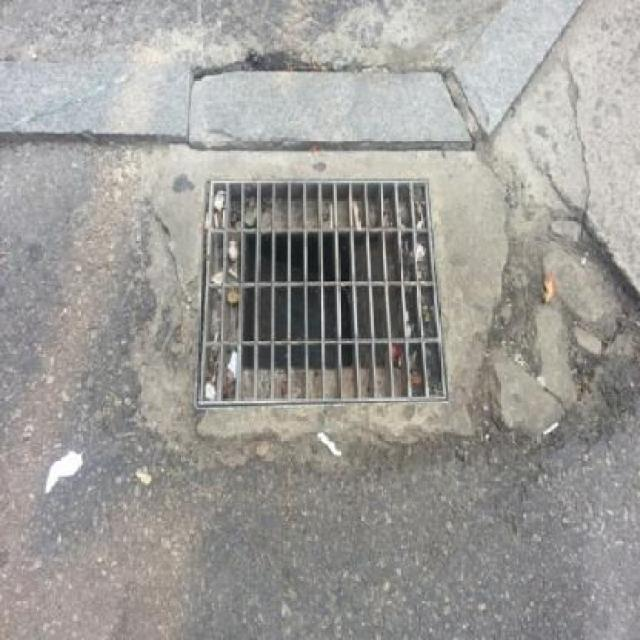Drain Hole: (190, 173, 537, 432)
